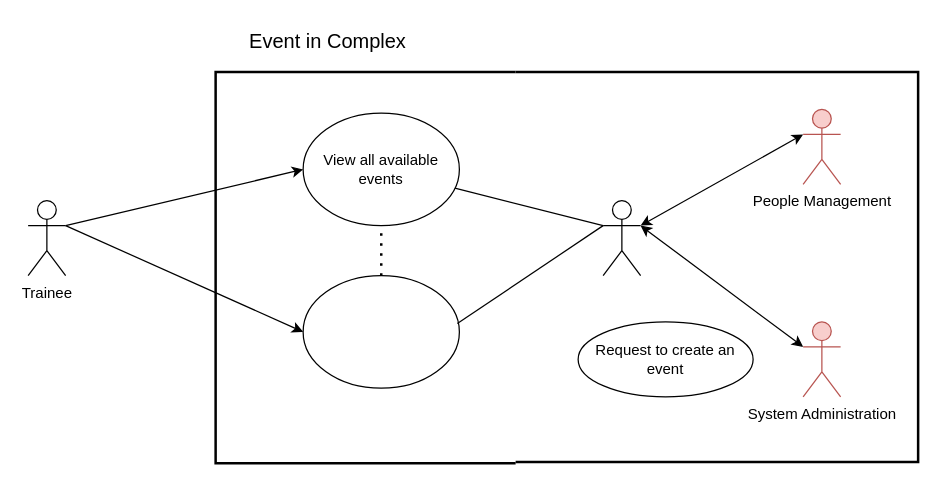
Some shapes in this 940 by 485 pixel diagram are drawn without their labels. The box of each missing label's shape, as (x1, y1, x2, y2) in pixels:
Register for event: (302, 274, 459, 388)
Sport Complex: (602, 199, 641, 276)
